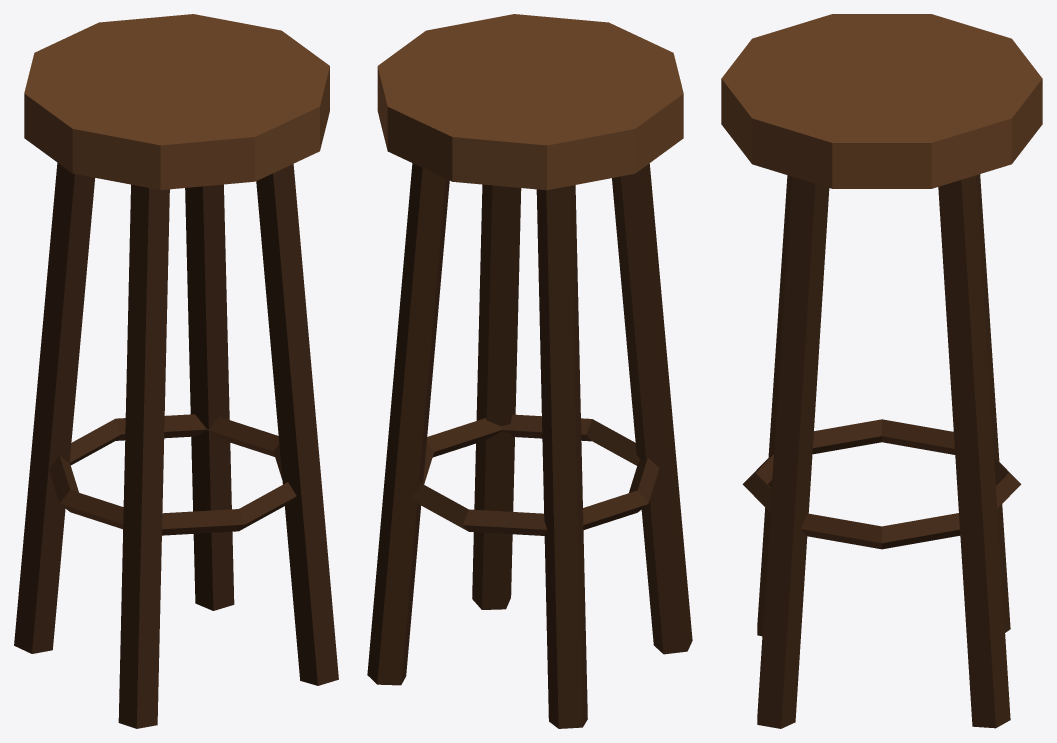
The model's file is SM_Bar_Stool.obj.
3 renders of one model, left to right at view 1: azimuth 30°, elevation 25°; view 2: azimuth 150°, elevation 25°; view 3: azimuth 270°, elevation 25°, orthographic. The views are drawn at different scales.
Visible parts, largest first — view 1: SM_Bar_Stool; view 2: SM_Bar_Stool; view 3: SM_Bar_Stool.
Part boxes in pixels (bbox=[...]): SM_Bar_Stool: bbox=[14, 14, 338, 728]; SM_Bar_Stool: bbox=[367, 14, 692, 728]; SM_Bar_Stool: bbox=[721, 14, 1042, 728].
Size of the model in its own units: 0.3614 by 0.7821 by 0.38.
